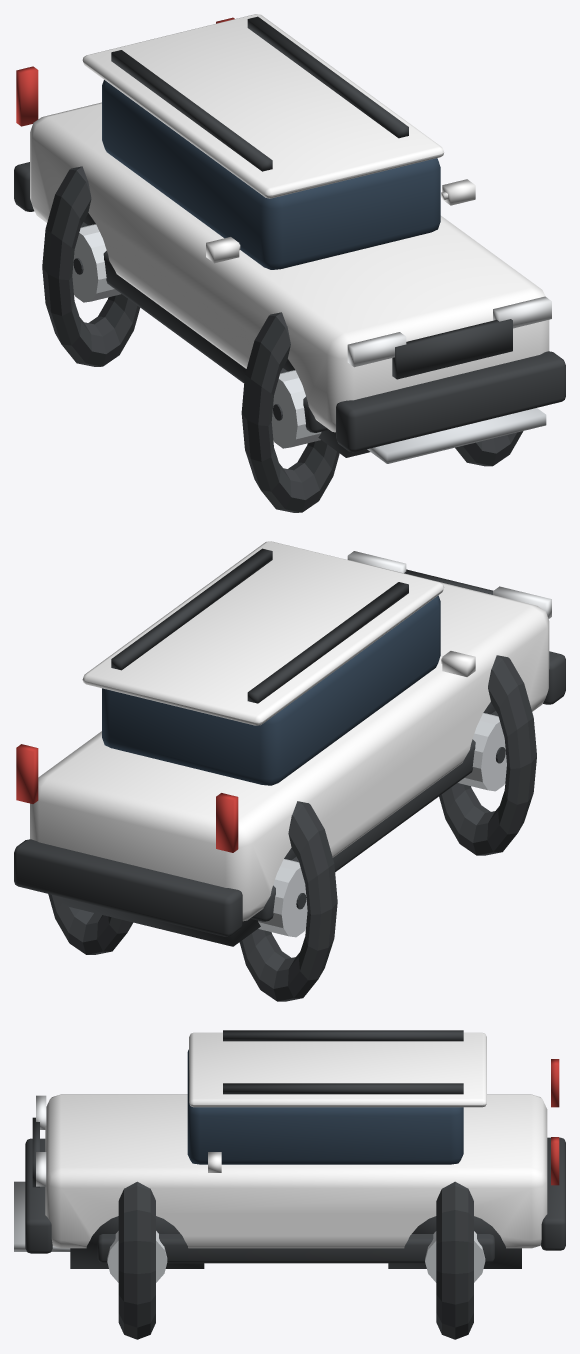
Rendered from suv.glb.
3 renders of one model, top to bottom at view 1: azimuth 30°, elevation 25°; view 2: azimuth 150°, elevation 25°; view 3: azimuth 270°, elevation 25°, orthographic. The views are drawn at different scales.
Parts seen in each view (by area): view 1: suv_body, suv_roof, suv_cabin, suv_bf, suv_w_tire.002, suv_w_tire.003, suv_grille, suv_skid, suv_rail, suv_rail.001, suv_skirt, suv_w_rim.002 (+8 smaller); view 2: suv_body, suv_roof, suv_cabin, suv_br, suv_w_tire.003, suv_w_tire.002, suv_rail, suv_rail.001, suv_skirt, suv_w_tire.001, suv_w_rim.003, suv_w_rim.002 (+7 smaller); view 3: suv_body, suv_roof, suv_cabin, suv_skirt, suv_w_tire.001, suv_w_tire, suv_rail, suv_rail.001, suv_bf, suv_br, suv_fender, suv_fender.001 (+6 smaller).
Part boxes in pixels (bbox=[...]): suv_body: bbox=[30, 102, 549, 432]; suv_roof: bbox=[82, 14, 444, 198]; suv_cabin: bbox=[102, 80, 440, 269]; suv_bf: bbox=[336, 351, 565, 452]; suv_w_tire.002: bbox=[241, 312, 339, 512]; suv_w_tire.003: bbox=[42, 166, 139, 366]; suv_grille: bbox=[392, 319, 512, 379]; suv_skid: bbox=[367, 408, 546, 463]; suv_rail: bbox=[111, 50, 272, 171]; suv_rail.001: bbox=[247, 16, 408, 138]; suv_skirt: bbox=[81, 222, 328, 432]; suv_w_rim.002: bbox=[271, 370, 321, 448]; suv_body: bbox=[30, 560, 549, 921]; suv_roof: bbox=[82, 541, 444, 725]; suv_cabin: bbox=[102, 595, 440, 785]; suv_br: bbox=[14, 839, 242, 936]; suv_w_tire.003: bbox=[239, 801, 337, 1001]; suv_w_tire.002: bbox=[439, 655, 536, 855]; suv_rail: bbox=[247, 582, 408, 703]; suv_rail.001: bbox=[111, 548, 272, 670]; suv_skirt: bbox=[251, 711, 498, 921]; suv_w_tire.001: bbox=[48, 894, 133, 954]; suv_w_rim.003: bbox=[258, 859, 307, 937]; suv_w_rim.002: bbox=[458, 713, 506, 791]; suv_body: bbox=[45, 1094, 547, 1248]; suv_roof: bbox=[189, 1032, 486, 1107]; suv_cabin: bbox=[187, 1049, 463, 1164]; suv_skirt: bbox=[97, 1234, 494, 1263]; suv_w_tire.001: bbox=[436, 1181, 473, 1339]; suv_w_tire: bbox=[118, 1181, 155, 1339]; suv_rail: bbox=[223, 1030, 463, 1041]; suv_rail.001: bbox=[223, 1083, 463, 1094]; suv_bf: bbox=[25, 1138, 52, 1253]; suv_br: bbox=[541, 1137, 565, 1250]; suv_fender: bbox=[70, 1216, 204, 1268]; suv_fender.001: bbox=[388, 1216, 521, 1268].
Bounding box in the file's own units: 2.5 × 2.57 × 5.28.
